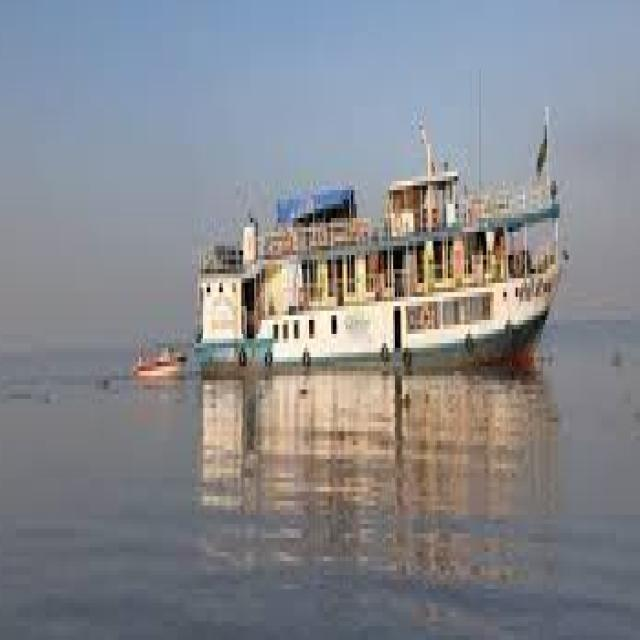houseboat: (196, 124, 572, 396)
